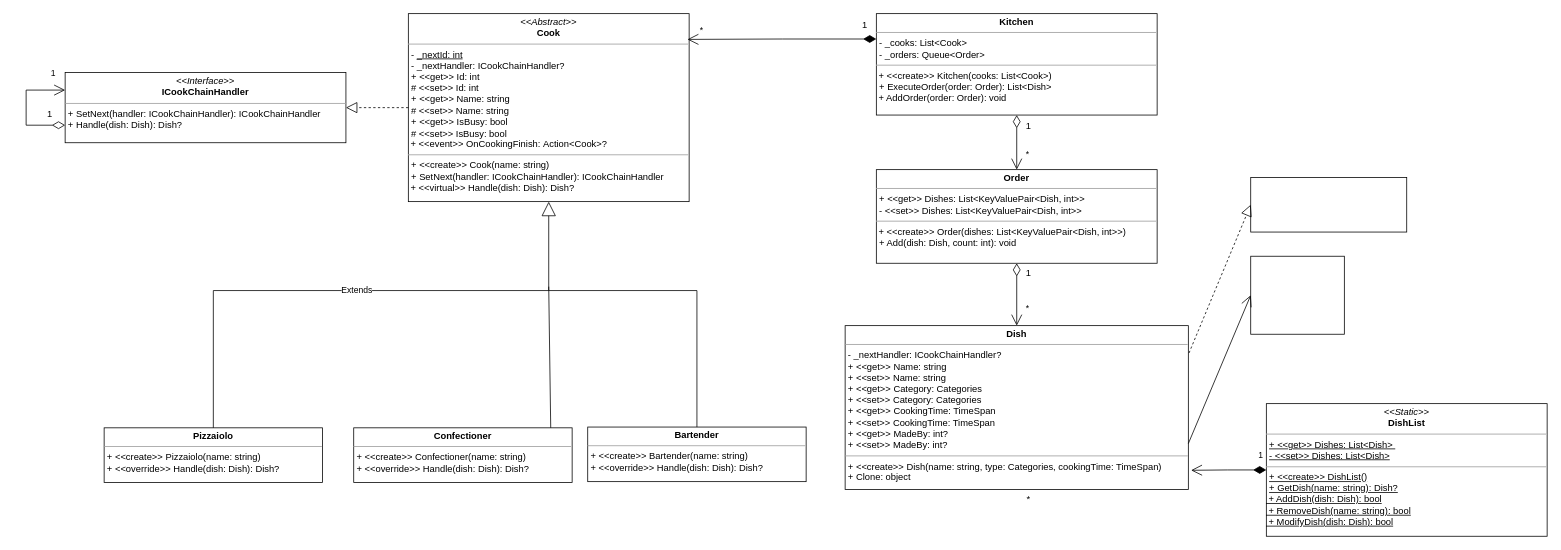
This 1561x550 diagram has some shape labels left out. The centre of each missing label's shape, as x and y in pixels:
"<<Enumeration>> Categories Pizza Drink Confectionery" belongs at (x=1297, y=294).
"<<Interface>> ICloneable + Clone: object" belongs at (x=1328, y=204).
